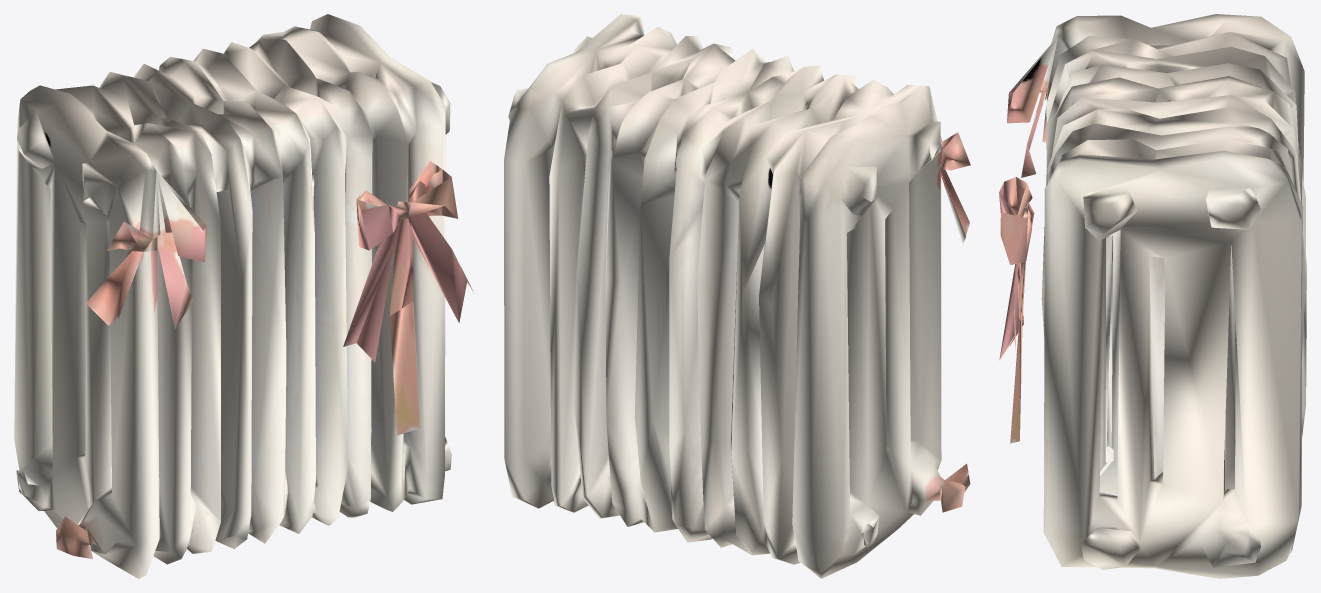
The model's file is regr_wall_radiator.fbx.
3 renders of one model, left to right at view 1: azimuth 30°, elevation 25°; view 2: azimuth 150°, elevation 25°; view 3: azimuth 270°, elevation 25°, orthographic.
Visible parts, largest first — view 1: Mesh1.0; view 2: Mesh1.0; view 3: Mesh1.0.
Boxes of the visible parts, box(x1,y1,x2,y2) form: Mesh1.0: box(14, 14, 474, 578); Mesh1.0: box(504, 14, 970, 578); Mesh1.0: box(999, 14, 1306, 578).
Bounding box in the file's own units: 176 × 189 × 124.
Materials: 1 (1 with a texture image).
